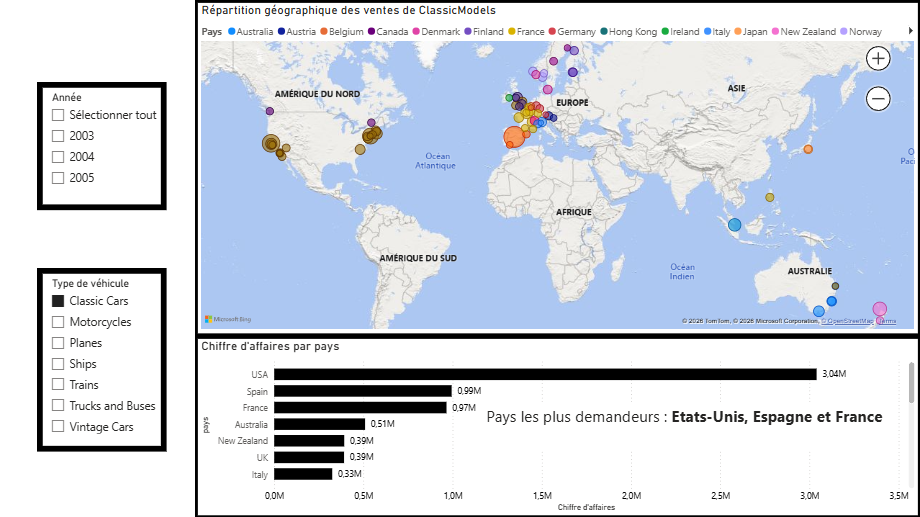

What the dashboard file says about the page in this screenshot:
{"tool":"powerbi","page":{"name":"Page 2","canvas":[1280,720],"ordinal":1},"visuals":[{"type":"map","title":"Répartition géographique des ventes de ClassicModels","fields":{"Category":["customers.city","customers.country"],"Size":["Sum(payments.ventes)"],"Series":["customers.country"]},"box":[271.7,0,1008.3,466.7],"z":2005},{"type":"slicer","fields":{"Values":["payments.Année"]},"box":[53.3,113.3,180,178.3],"z":2008},{"type":"barChart","fields":{"Category":["customers.country"],"Y":["Sum(payments.ventes)"]},"box":[271.7,466.7,1008.3,253.3],"z":2009},{"type":"slicer","fields":{"Values":["products_classicmodels.productline"]},"box":[53.3,371.7,180,255],"z":2010},{"type":"textbox","box":[671.7,558.3,561.7,68.3],"z":2011}]}

Visuals, with their boxes in screenshot pixels (x1, y1, x2, y2), scaled from the page's 1280x720 canvas onto the 920x517 screenshot:
"Répartition géographique des ventes de ClassicModels" map: l=195, t=0, r=919, b=335
slicer - payments.Année: l=38, t=81, r=168, b=209
barChart - customers.country x Sum(payments.ventes): l=195, t=335, r=919, b=516
slicer - products_classicmodels.productline: l=38, t=267, r=168, b=450
textbox: l=483, t=401, r=887, b=450
